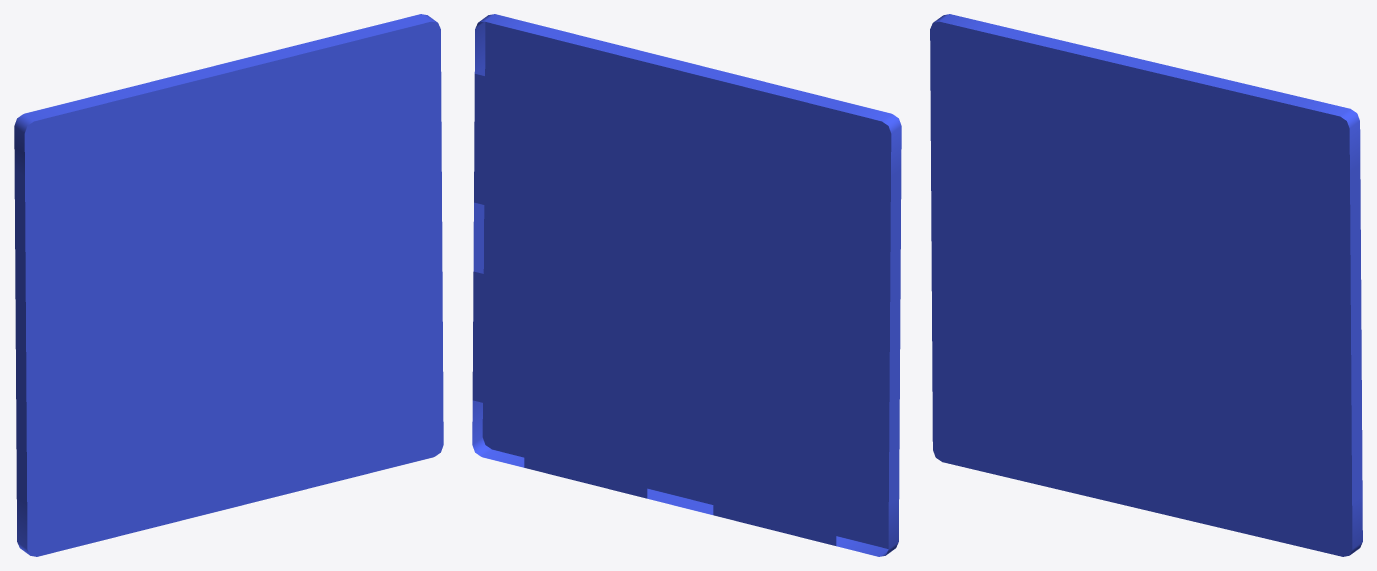
The model's file is pallet1.dae.
3 renders of one model, left to right at view 1: azimuth 30°, elevation 25°; view 2: azimuth 150°, elevation 25°; view 3: azimuth 330°, elevation 25°, orthographic.
Parts seen in each view (by area): view 1: Object_9.002; view 2: Object_9.002; view 3: Object_9.002.
Boxes of the visible parts, x1,y1,x2,y2 form: Object_9.002: [14, 14, 443, 556]; Object_9.002: [472, 14, 901, 556]; Object_9.002: [930, 14, 1362, 556].
Bounding box in the file's own units: 1.09 × 0.0468 × 1.09.
